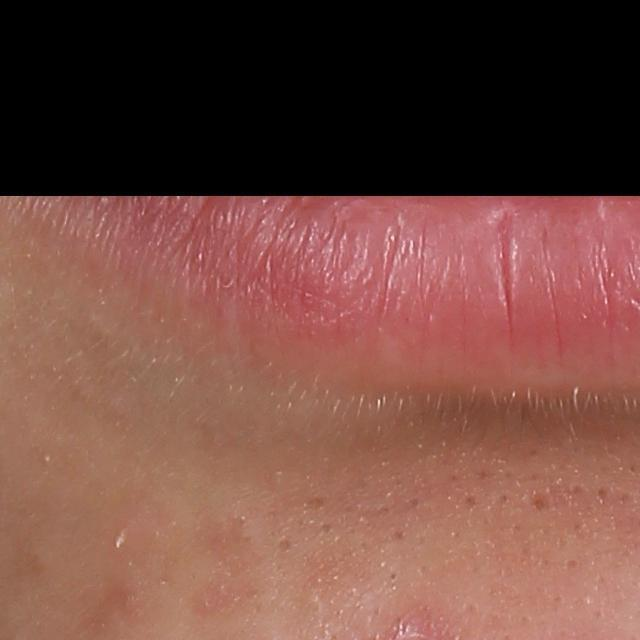comedo: (272, 534, 296, 559), (592, 484, 613, 505), (529, 488, 547, 512), (387, 565, 403, 586)
